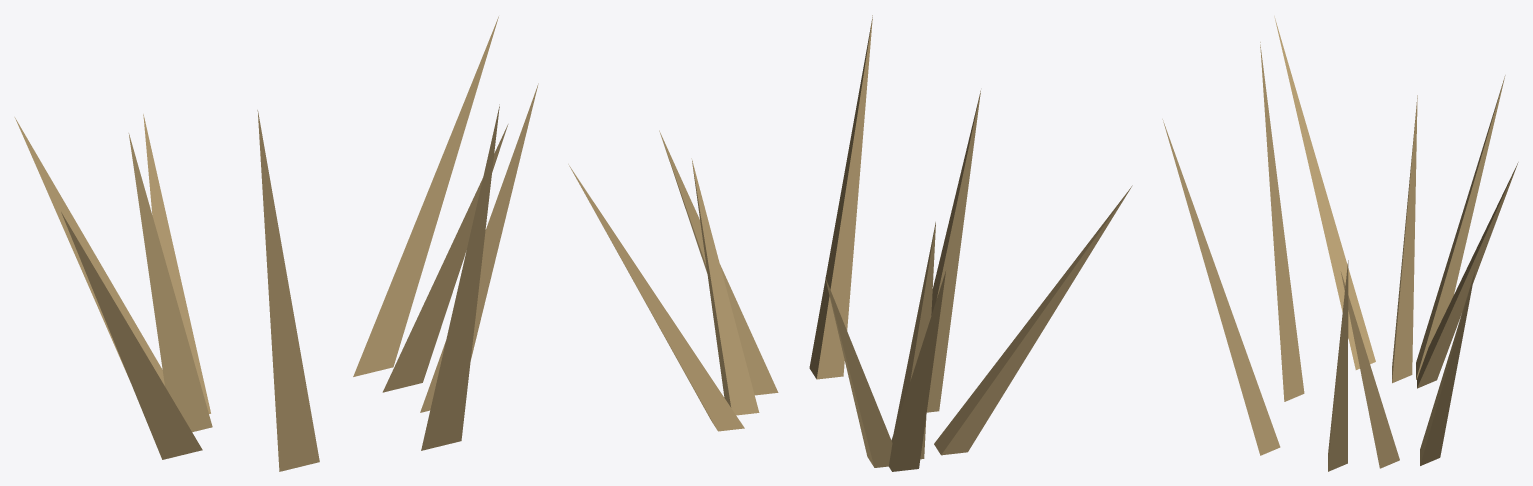
The model's file is grass.glb.
The picture shows the model from 3 angles, left to right: view 1: azimuth 30°, elevation 25°; view 2: azimuth 150°, elevation 25°; view 3: azimuth 270°, elevation 25°; orthographic projection. The views are drawn at different scales.
Parts seen in each view (by area): view 1: grass; view 2: grass; view 3: grass.
Part boxes in pixels (x1=…): grass: x1=14, y1=16, x2=538, y2=471; grass: x1=568, y1=15, x2=1132, y2=471; grass: x1=1162, y1=16, x2=1518, y2=471.
Size of the model in its own units: 1.1 by 0.7249 by 0.7084.
